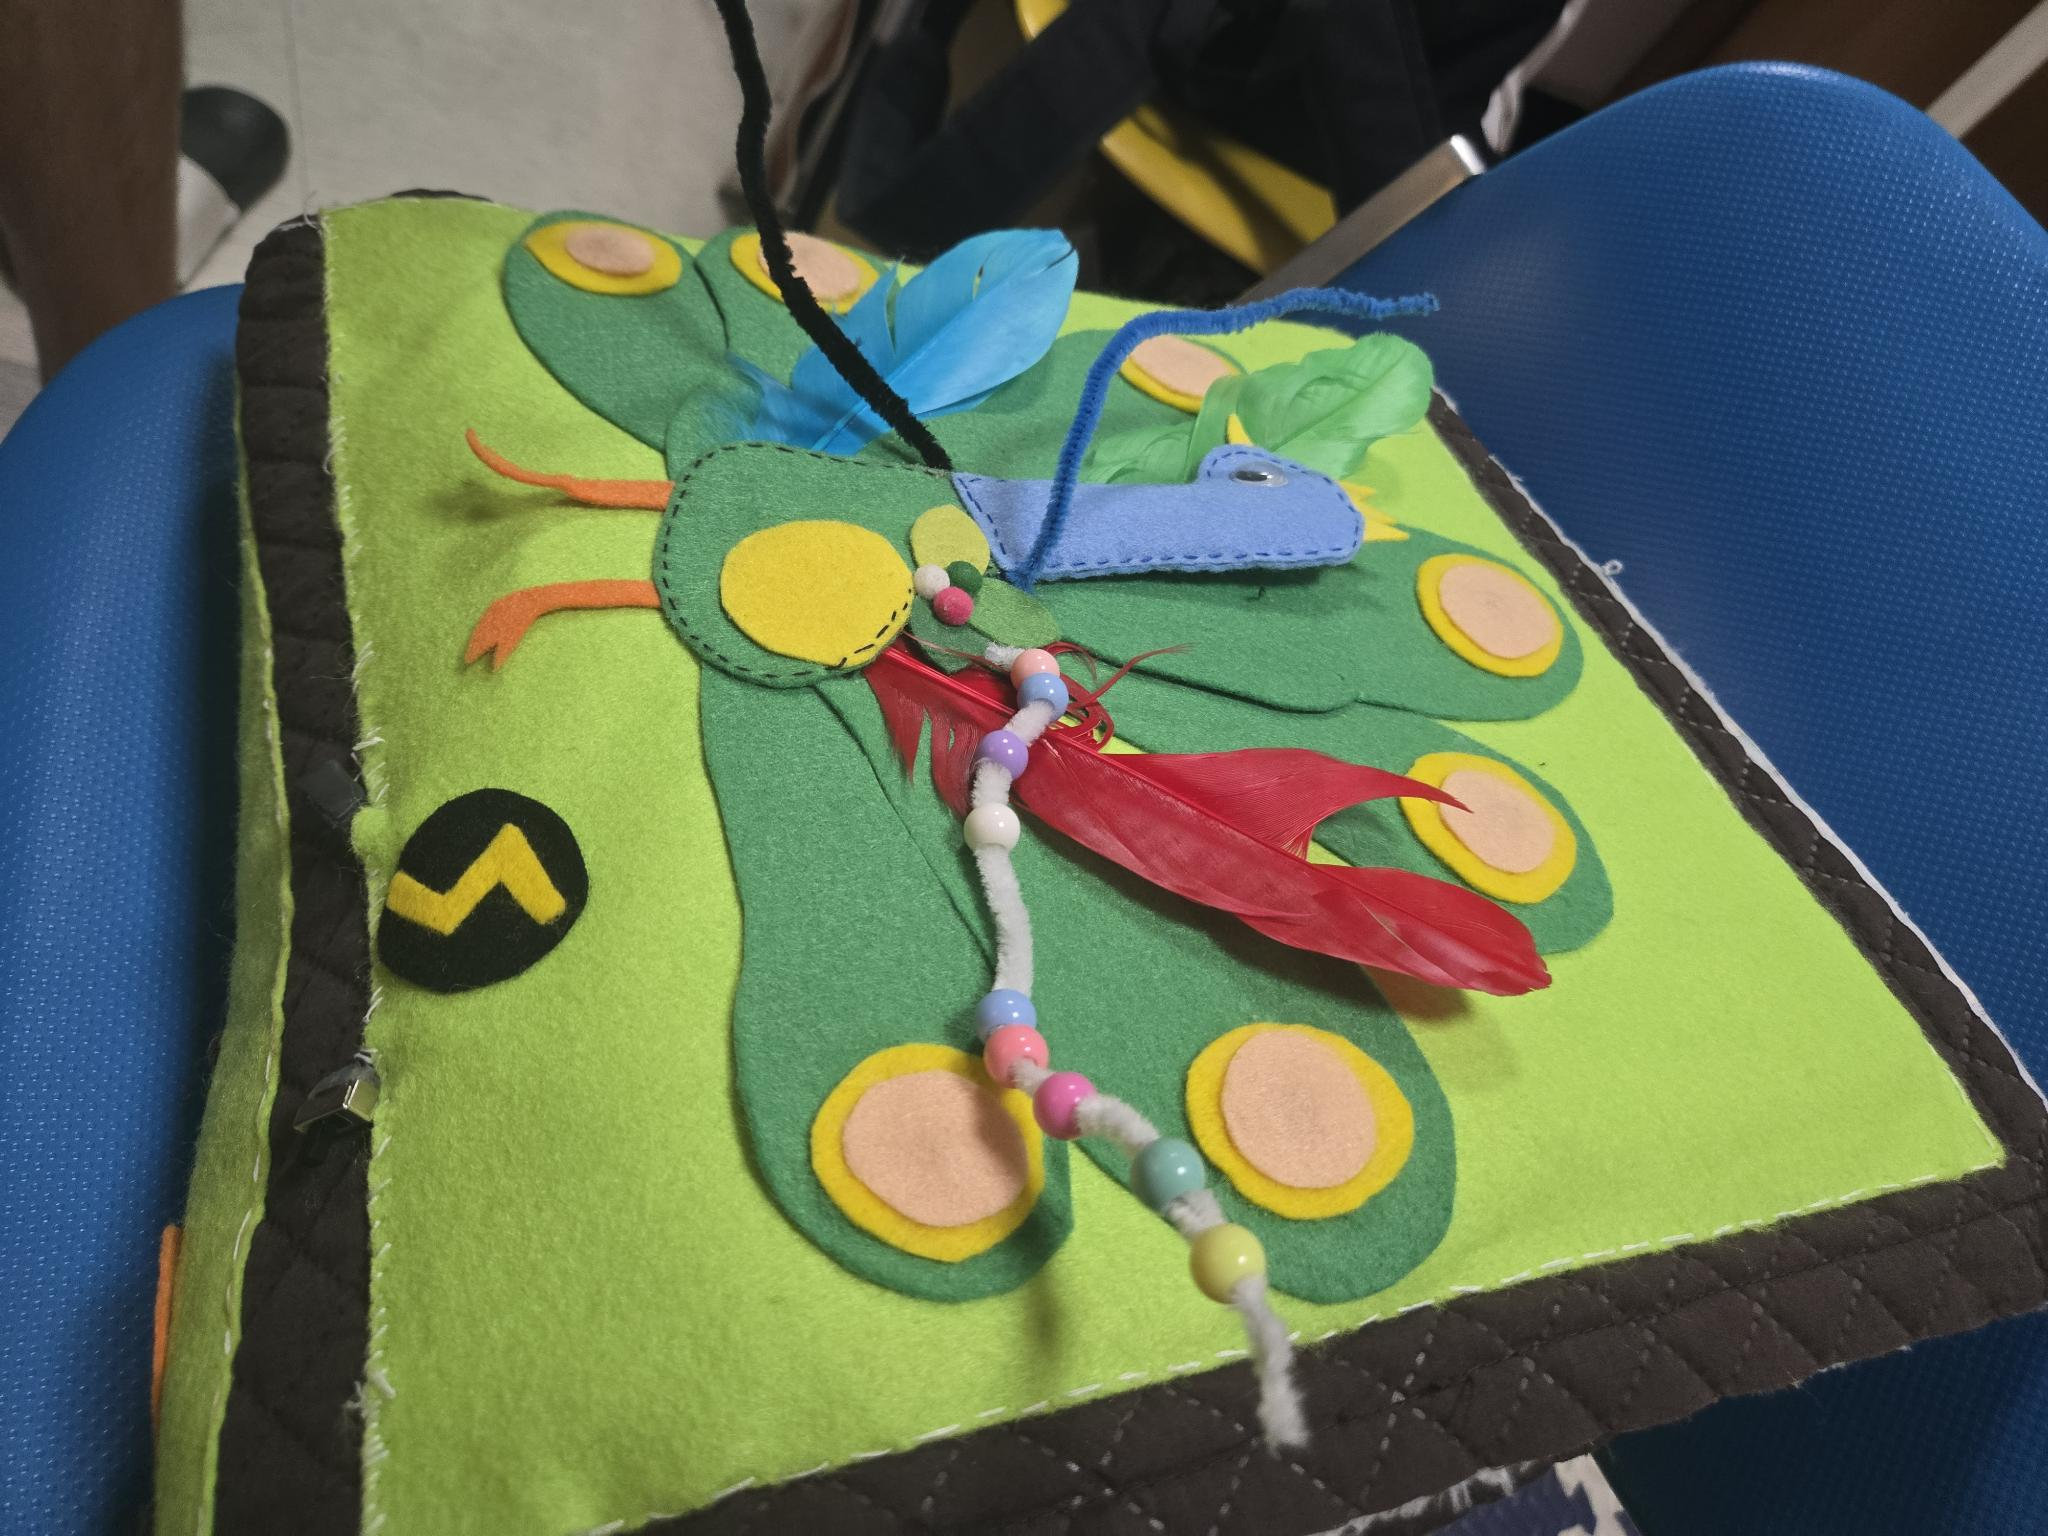bead: (1193, 1220, 1287, 1307), (1132, 1128, 1230, 1205), (953, 794, 1042, 876), (1024, 1071, 1109, 1149), (963, 963, 1050, 1031), (963, 723, 1042, 786), (963, 1025, 1043, 1083), (1008, 641, 1071, 682), (1019, 671, 1080, 713)
